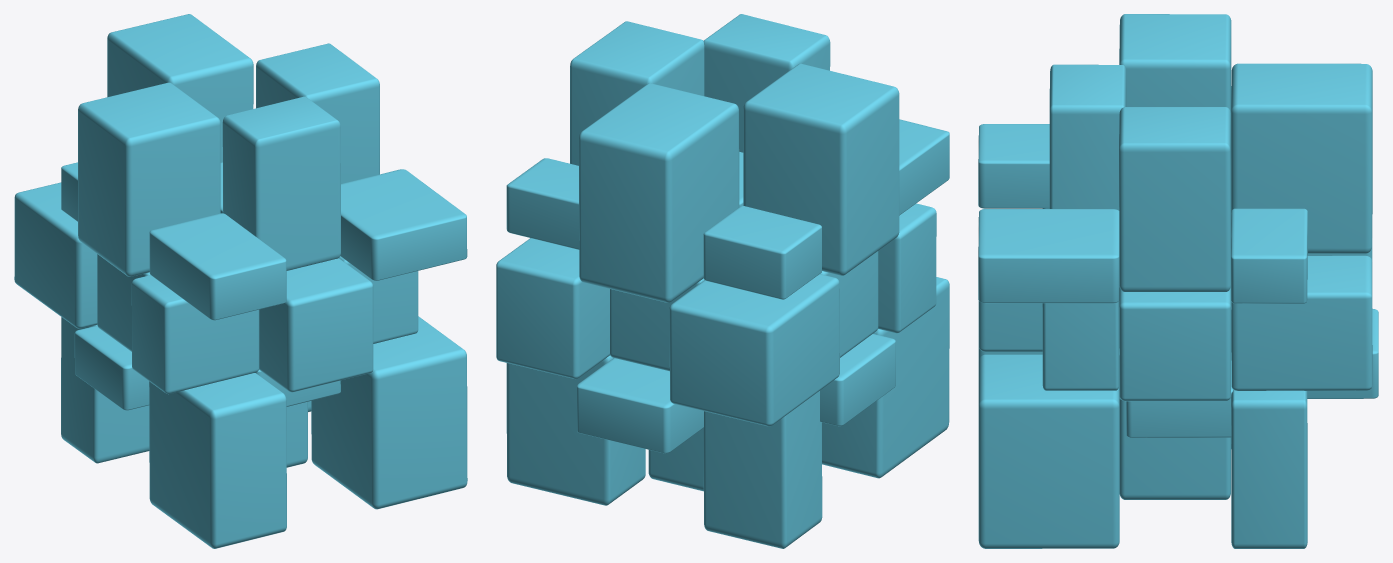
The model's file is MirrorCube.glb.
3 views of the same model, side by side, from view 1: azimuth 30°, elevation 25°; view 2: azimuth 150°, elevation 25°; view 3: azimuth 270°, elevation 25° (orthographic). The views are drawn at different scales.
Parts seen in each view (by area): view 1: Cube, Cube.003, Cube.002, Cube.007, Cube.016, Cube.018, Cube.020, Cube.011, Cube.001, Cube.005, Cube.017, Cube.008 (+6 smaller); view 2: Cube.001, Cube.003, Cube.017, Cube.008, Cube.015, Cube.006, Cube.002, Cube.005, Cube.026, Cube.019, Cube.007, Cube.011 (+6 smaller); view 3: Cube, Cube.001, Cube.005, Cube.015, Cube.018, Cube.014, Cube.006, Cube.007, Cube.003, Cube.024, Cube.004, Cube.009 (+4 smaller).
Part boxes in pixels (x1,y1,x2,y2): Cube: (311, 316, 467, 509); Cube.003: (78, 82, 220, 276); Cube.002: (149, 373, 286, 548); Cube.007: (222, 96, 340, 270); Cube.016: (259, 258, 373, 392); Cube.018: (340, 169, 467, 280); Cube.020: (149, 213, 286, 320); Cube.011: (131, 275, 259, 394); Cube.001: (107, 14, 253, 162); Cube.005: (256, 43, 379, 183); Cube.017: (14, 182, 97, 328); Cube.008: (61, 317, 149, 463); Cube.001: (579, 83, 739, 302); Cube.003: (743, 63, 899, 275); Cube.017: (669, 274, 839, 426); Cube.008: (703, 391, 822, 548); Cube.015: (496, 238, 609, 378); Cube.006: (506, 355, 645, 505); Cube.002: (822, 277, 949, 478); Cube.005: (570, 21, 704, 165); Cube.026: (703, 206, 821, 299); Cube.019: (577, 358, 703, 453); Cube.007: (703, 14, 830, 152); Cube.011: (878, 203, 936, 333); Cube: (978, 354, 1119, 548); Cube.001: (1231, 63, 1372, 253); Cube.005: (1119, 107, 1231, 291); Cube.015: (1231, 255, 1372, 390); Cube.018: (978, 209, 1119, 303); Cube.014: (1119, 286, 1230, 401); Cube.006: (1231, 389, 1307, 548); Cube.007: (1049, 64, 1126, 210); Cube.003: (1119, 14, 1231, 112); Cube.024: (1231, 208, 1307, 303); Cube.004: (1119, 400, 1230, 499); Cube.009: (1042, 301, 1118, 390).
Bounding box in the file's own units: 5.84 × 7.42 × 6.82.
